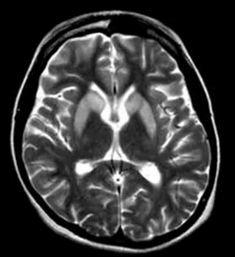Normal_Brain: (4, 5, 235, 244)
